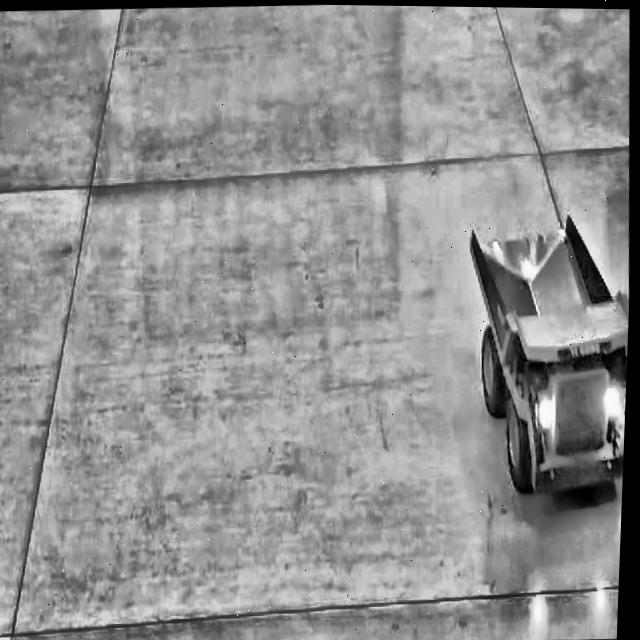dump_truck: (456, 207, 634, 506)
